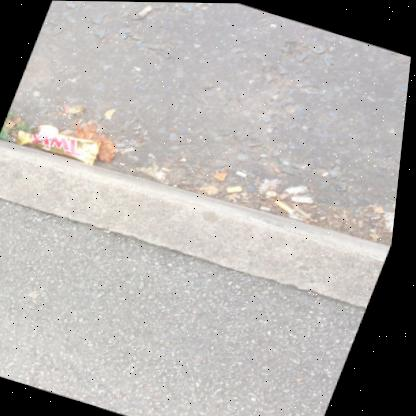Plastic: (16, 125, 103, 165)
Waste: (277, 199, 299, 214), (133, 5, 151, 19), (288, 185, 311, 193), (295, 196, 316, 203), (228, 185, 244, 192), (238, 170, 250, 176), (263, 206, 274, 210)
